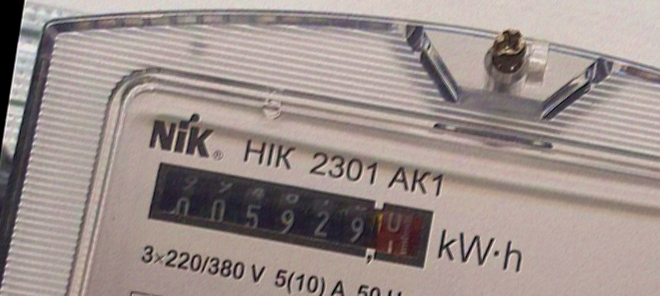0: (204, 196, 228, 227), (168, 192, 193, 218), (381, 211, 403, 236)
2: (307, 207, 331, 243)
5: (239, 202, 261, 232)
9: (272, 206, 297, 239), (343, 214, 367, 248), (177, 173, 198, 194)
screen: (137, 156, 441, 280)
